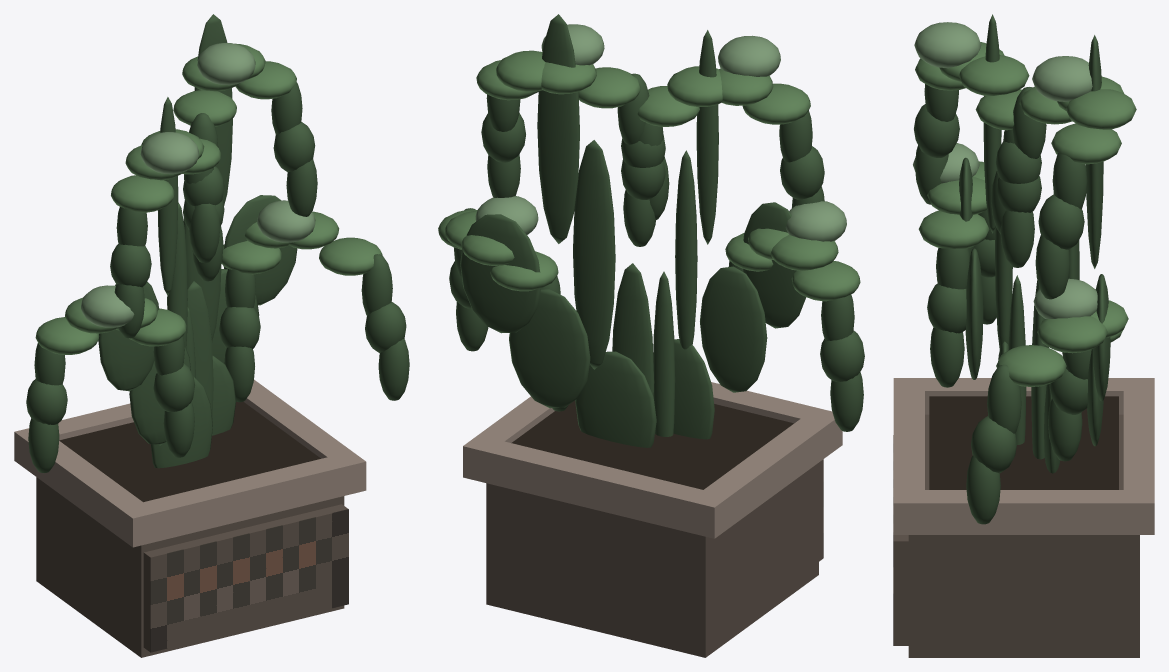
Rendered from CMU3DPottedPlant1.glb.
3 views of the same model, side by side, from view 1: azimuth 30°, elevation 25°; view 2: azimuth 150°, elevation 25°; view 3: azimuth 270°, elevation 25° (orthographic). The views are drawn at different scales.
Parts seen in each view (by area): view 1: tapered leaf blade (×34), branch (×11), original woven front panel, square pot base, recessed soil, side rim (×2), front and back rim (×2), pale new leaf tip (×4), physical backing for original planter detail; view 2: branch (×12), square pot base, tapered leaf blade (×28), front and back rim (×2), side rim (×2), recessed soil, pale new leaf tip (×4); view 3: tapered leaf blade (×34), square pot base, branch (×10), side rim (×2), recessed soil, pale new leaf tip (×4), front and back rim (×2), physical backing for original planter detail.
Part boxes in pixels (x1,y1,x2,y2): tapered leaf blade (×34): (26,56,409,473); branch (×11): (98,14,297,468); original woven front panel: (150,509,348,652); square pot base: (36,477,344,657); recessed soil: (59,401,320,502); side rim (×2): (14,379,366,547); front and back rim (×2): (58,403,341,541); pale new leaf tip (×4): (81,43,315,327); physical backing for original planter detail: (143,504,347,651); branch (×12): (460,14,806,447); square pot base: (486,463,818,657); tapered leaf blade (×28): (444,50,864,431); front and back rim (×2): (489,382,815,532); side rim (×2): (463,396,842,538); recessed soil: (511,400,793,489); pale new leaf tip (×4): (475,24,846,241); tapered leaf blade (×34): (914,42,1136,524); square pot base: (908,414,1139,657); branch (×10): (959,14,1110,473); side rim (×2): (893,378,1154,534); recessed soil: (929,396,1118,489); pale new leaf tip (×4): (913,22,1097,318); front and back rim (×2): (893,391,1154,489); physical backing for original planter detail: (894,535,908,645).
Size of the model in its own units: 0.686 by 0.944 by 0.3738.
Materials: 7 (1 with a texture image).
